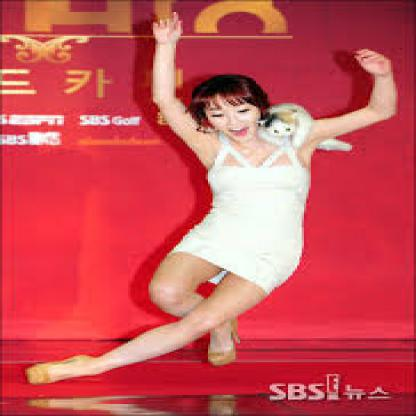Fall_Down: (20, 11, 406, 392)
